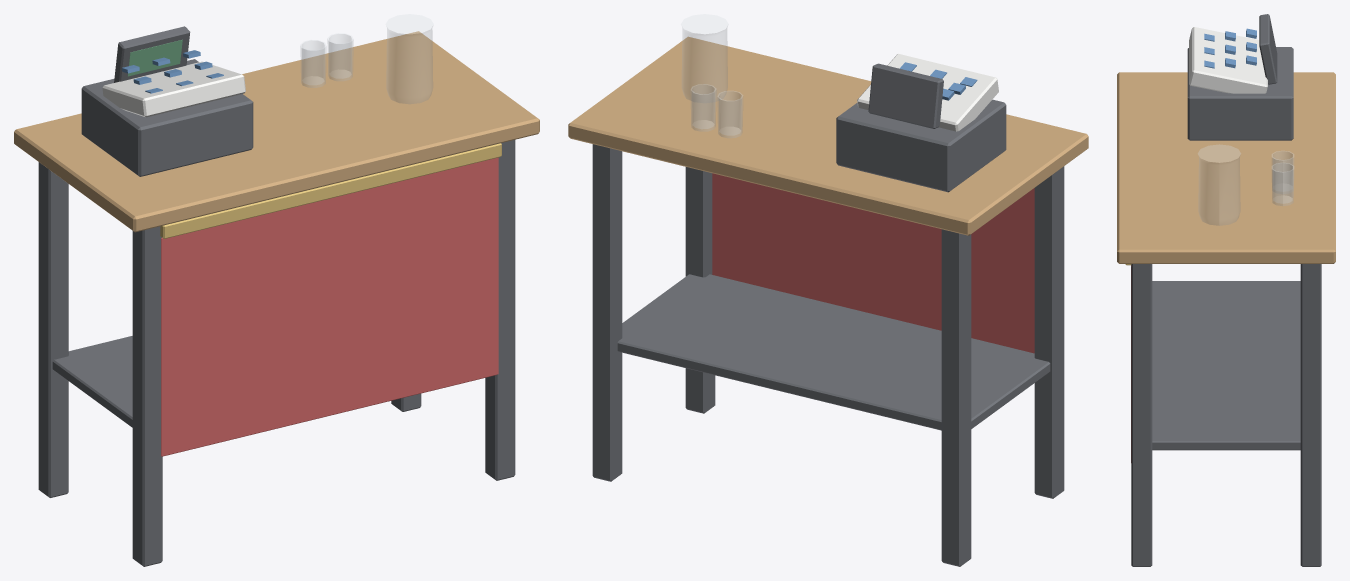
3 views of the same model, side by side, from view 1: azimuth 30°, elevation 25°; view 2: azimuth 150°, elevation 25°; view 3: azimuth 270°, elevation 25° (orthographic). The views are drawn at different scales.
Visible parts, largest first — view 1: bar-table-with-till; view 2: bar-table-with-till; view 3: bar-table-with-till.
Boxes of the visible parts, bbox=[...] form: bar-table-with-till: bbox=[14, 14, 539, 566]; bar-table-with-till: bbox=[568, 14, 1088, 566]; bar-table-with-till: bbox=[1117, 14, 1335, 566].
Size of the model in its own units: 1.2 by 1.29 by 0.62.
